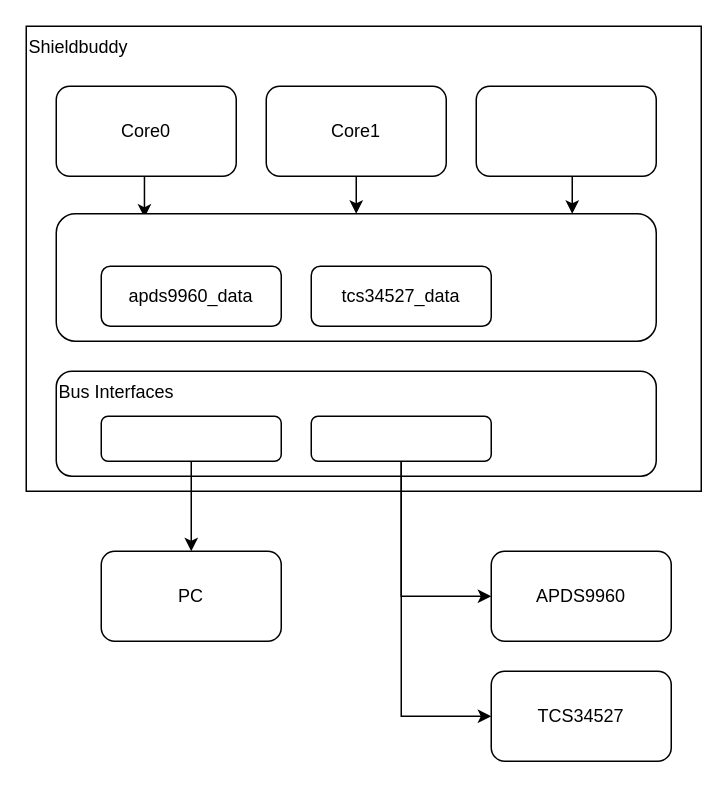
The diagram is 728 pixels wide and 788 high, and some of its shapes have lost their labels. Each missing label, with the box of its shape:
Core2: (475, 85, 656, 176)
I2C Module0: (310, 415, 491, 461)
Shared Memory: (55, 212, 656, 341)
UART: (100, 415, 281, 461)
